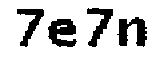7: (82, 3, 114, 52), (13, 4, 45, 49)
e: (45, 15, 80, 52)
n: (116, 14, 150, 51)
